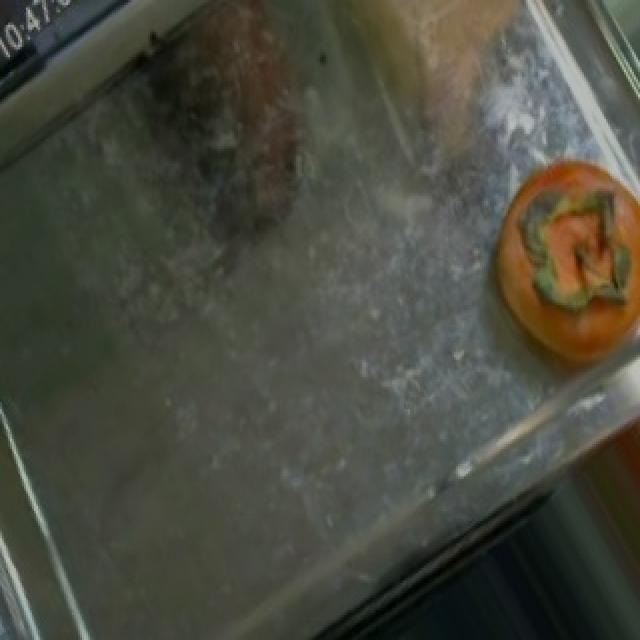Fruit: (468, 136, 640, 387)
